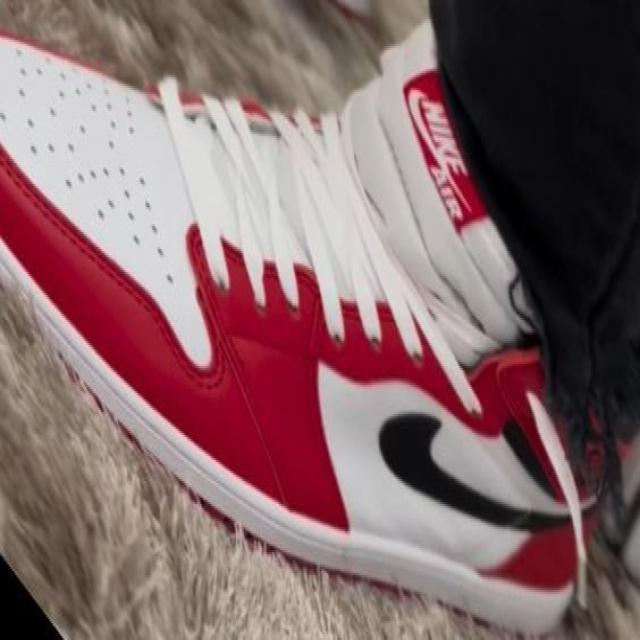J1_InsoleChar: (0, 17, 609, 636)
J1_MateComp: (342, 20, 541, 365)
J1_ShoeLogo: (375, 407, 596, 533), (401, 67, 490, 231)
J1_ShoeShape: (425, 0, 639, 634)
J1_StitchPattern: (5, 33, 534, 371), (150, 79, 432, 354), (11, 49, 178, 282), (185, 222, 431, 364), (187, 224, 299, 514), (152, 73, 231, 291), (54, 351, 149, 463)
